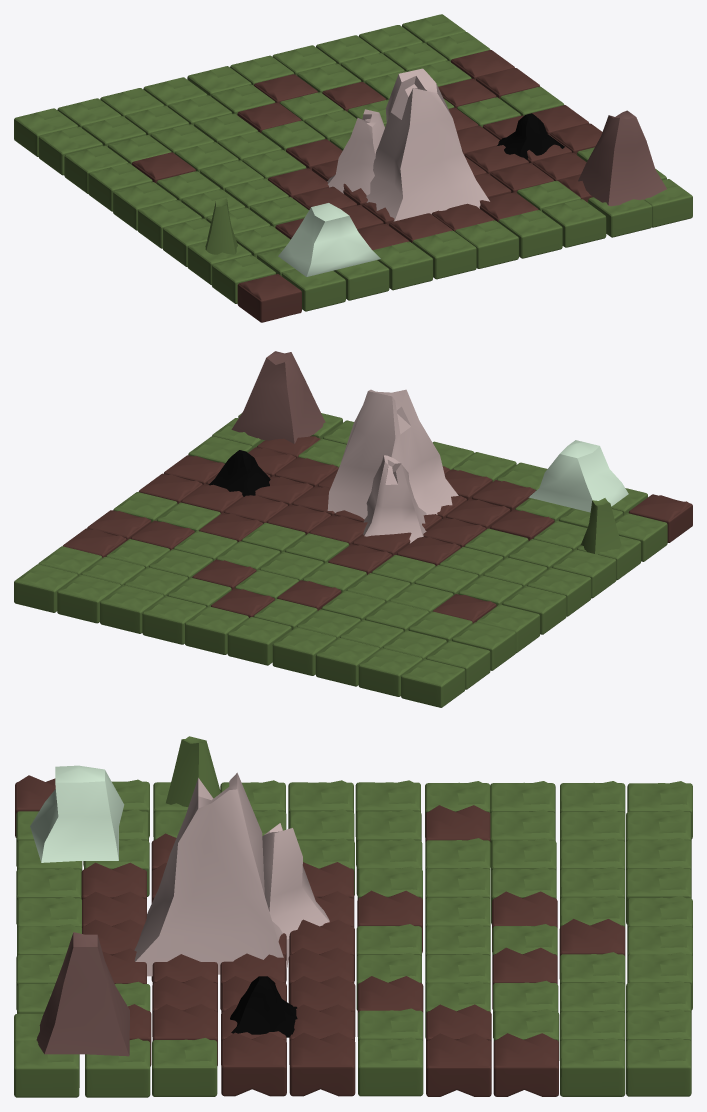
Rendered from dag_mekan.fbx.
3 renders of one model, top to bottom at view 1: azimuth 30°, elevation 25°; view 2: azimuth 150°, elevation 25°; view 3: azimuth 270°, elevation 25°, orthographic. The views are drawn at different scales.
Visible parts, largest first — view 1: pCubeShape3; view 2: pCubeShape3; view 3: pCubeShape3.
Part boxes in pixels (x1=…): pCubeShape3: x1=14, y1=14, x2=692, y2=322; pCubeShape3: x1=14, y1=351, x2=692, y2=707; pCubeShape3: x1=14, y1=736, x2=692, y2=1097.
Bounding box in the file's own units: 89.67 × 27.04 × 89.79.
